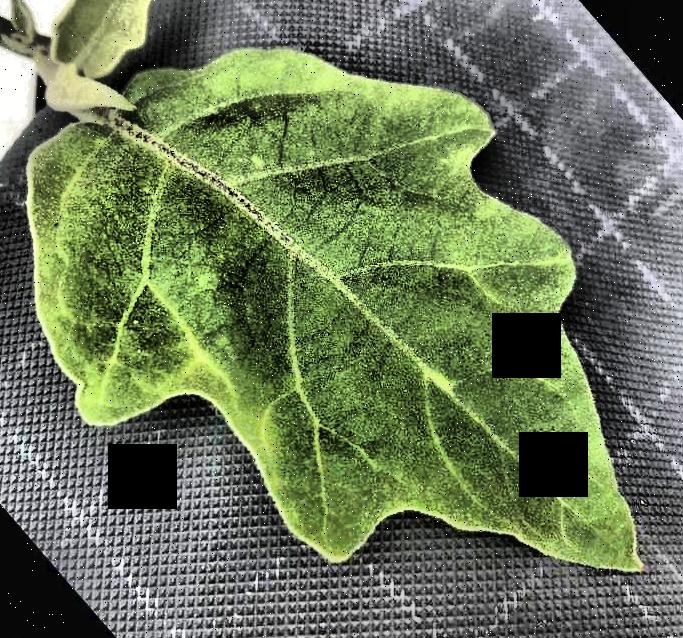HEALTHY: (1, 0, 683, 638)
